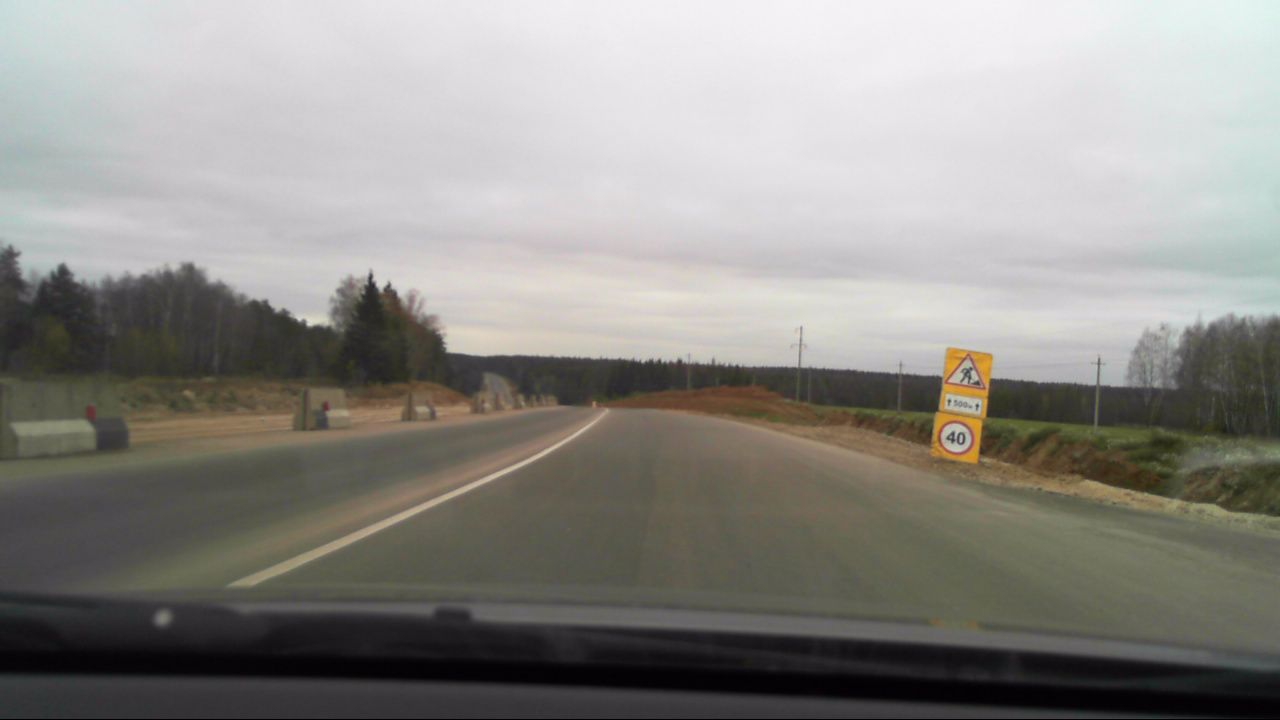speed_warning_40: (936, 419, 976, 456)
